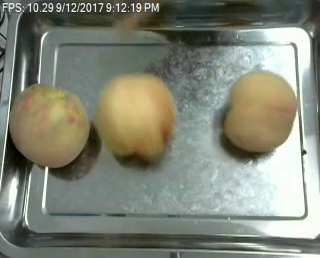Peach: (94, 72, 175, 161), (9, 82, 90, 168), (223, 70, 297, 153)
